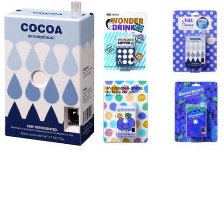carton: (2, 2, 97, 146), (180, 34, 208, 69), (184, 103, 209, 140), (113, 103, 138, 138), (114, 33, 136, 67)
